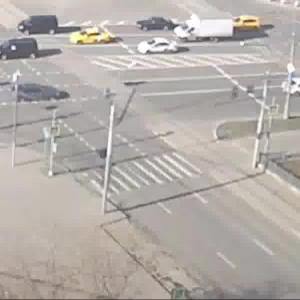car: (174, 13, 234, 43), (16, 84, 67, 104), (229, 9, 263, 34), (66, 28, 110, 47), (1, 41, 40, 61), (21, 17, 58, 36), (134, 18, 174, 33), (143, 42, 178, 55), (276, 82, 300, 92)
